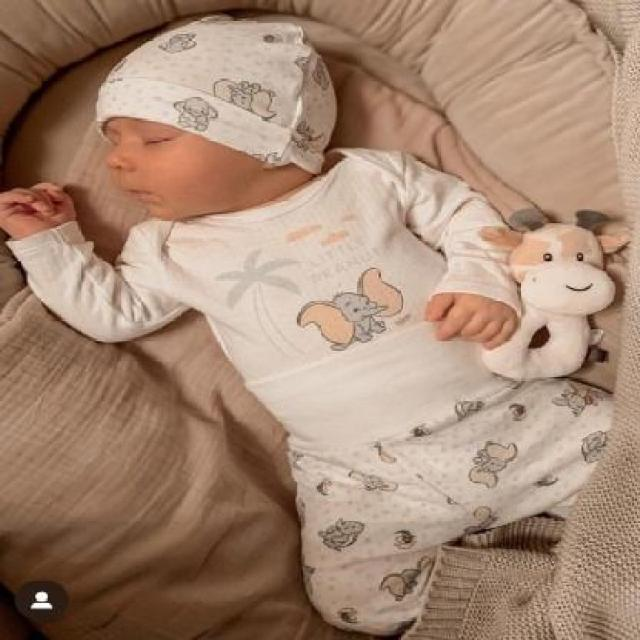baby: (0, 12, 615, 638)
